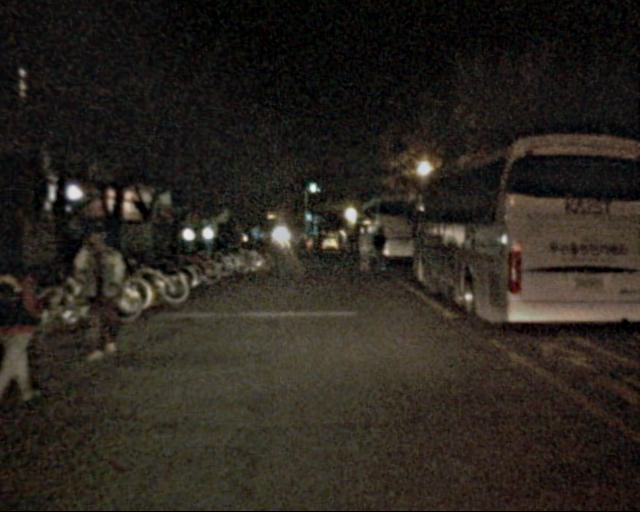person: (73, 223, 140, 360), (355, 228, 374, 275), (372, 227, 390, 272), (345, 232, 359, 265)
